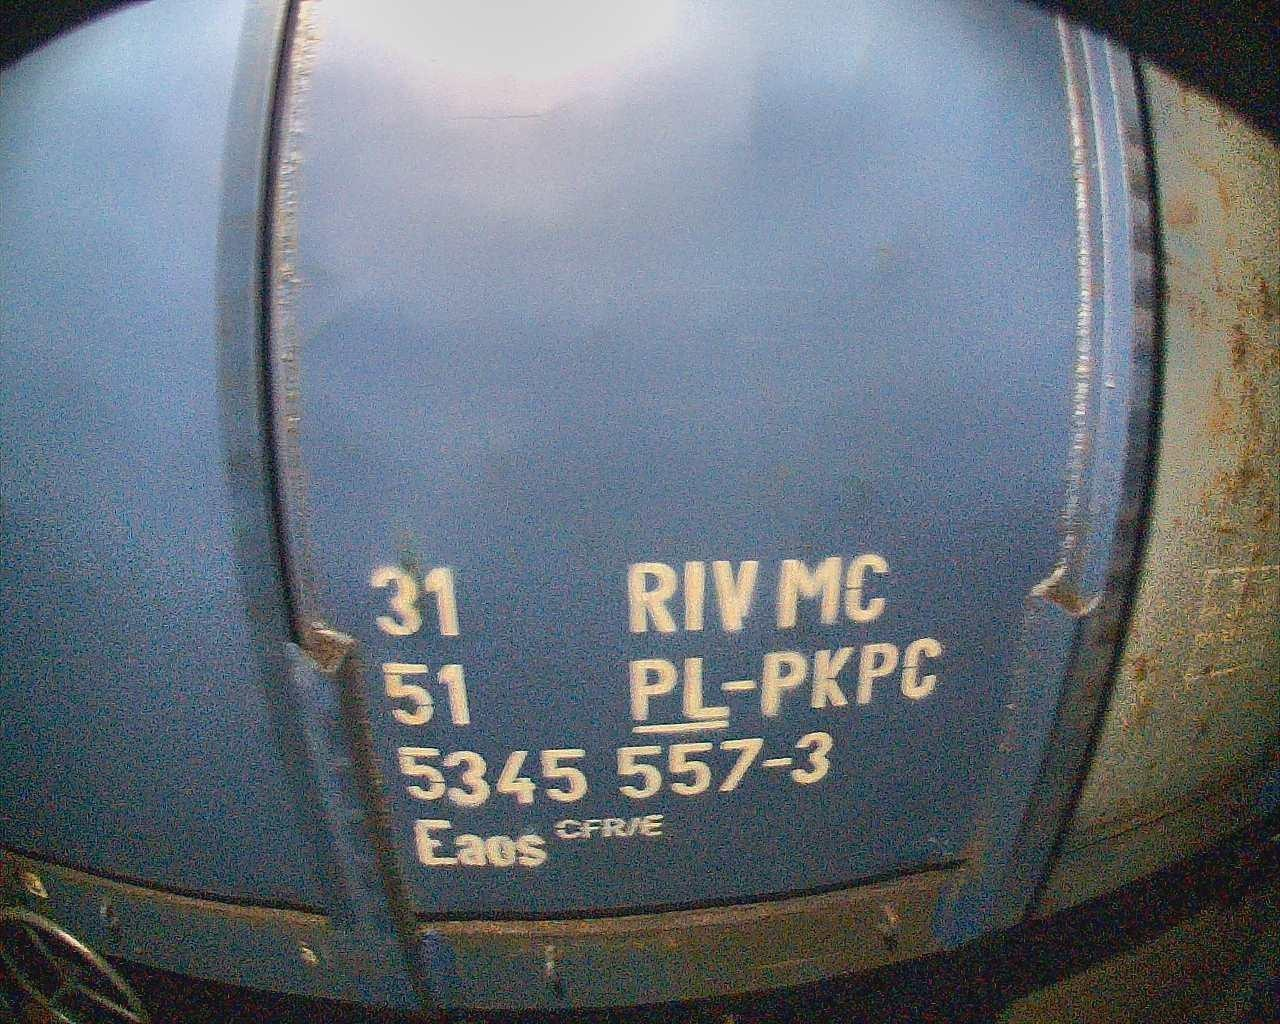UIC: (368, 555, 946, 872)
